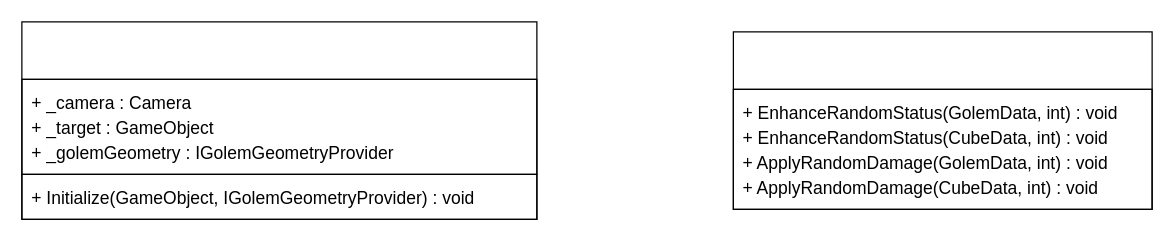
This 1175x241 diagram has some shape labels left out. The shapes that lost their labels are listed below. From the top down, each one's box as (x1, y1, x2, y2) in pixels, then its label:
(21, 21, 537, 219): <<MonoBehaviour>> GolemFollower
(732, 31, 1152, 209): RandomStatusEnhancer
